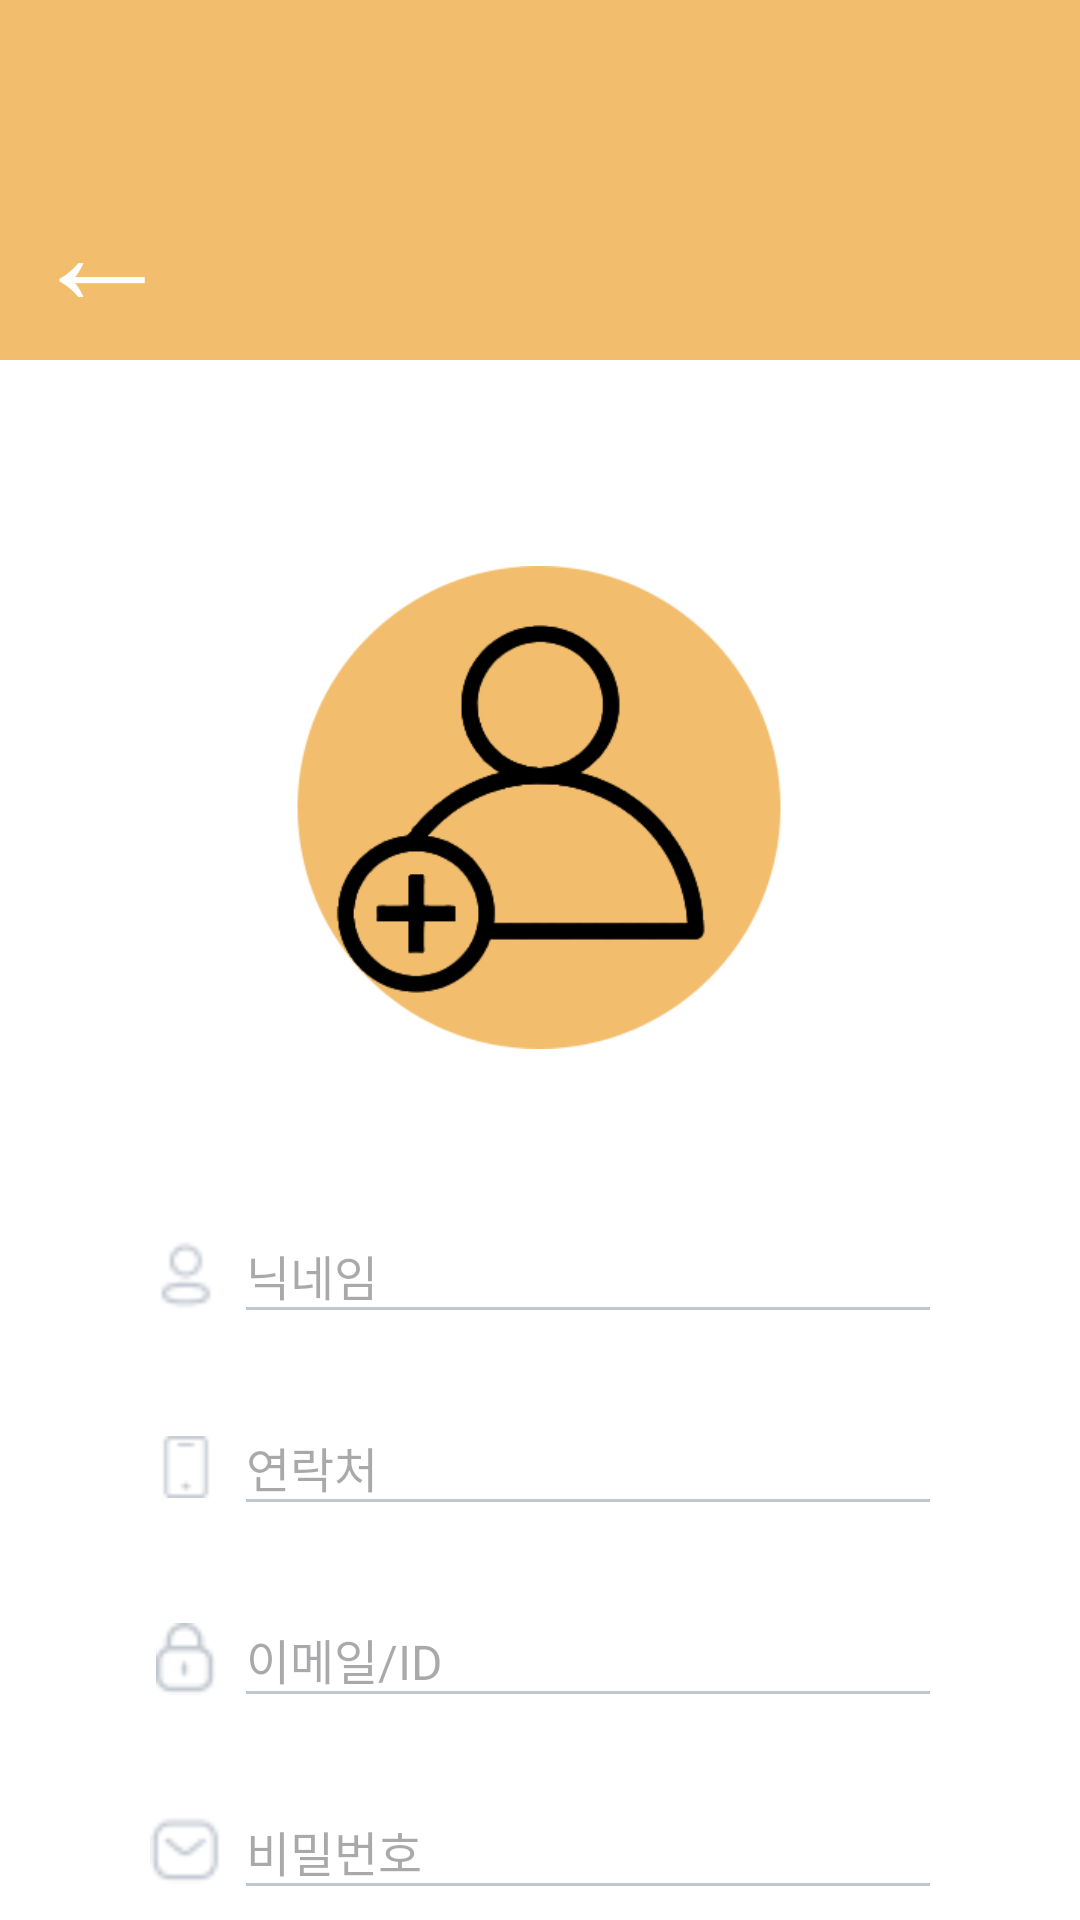

Screen size 1080x1920. Icon name, then its box in pixels as detection(x1, y1, x2, y2):
contact: detection(164, 1436, 208, 1498)
nickname: detection(162, 1245, 210, 1305)
